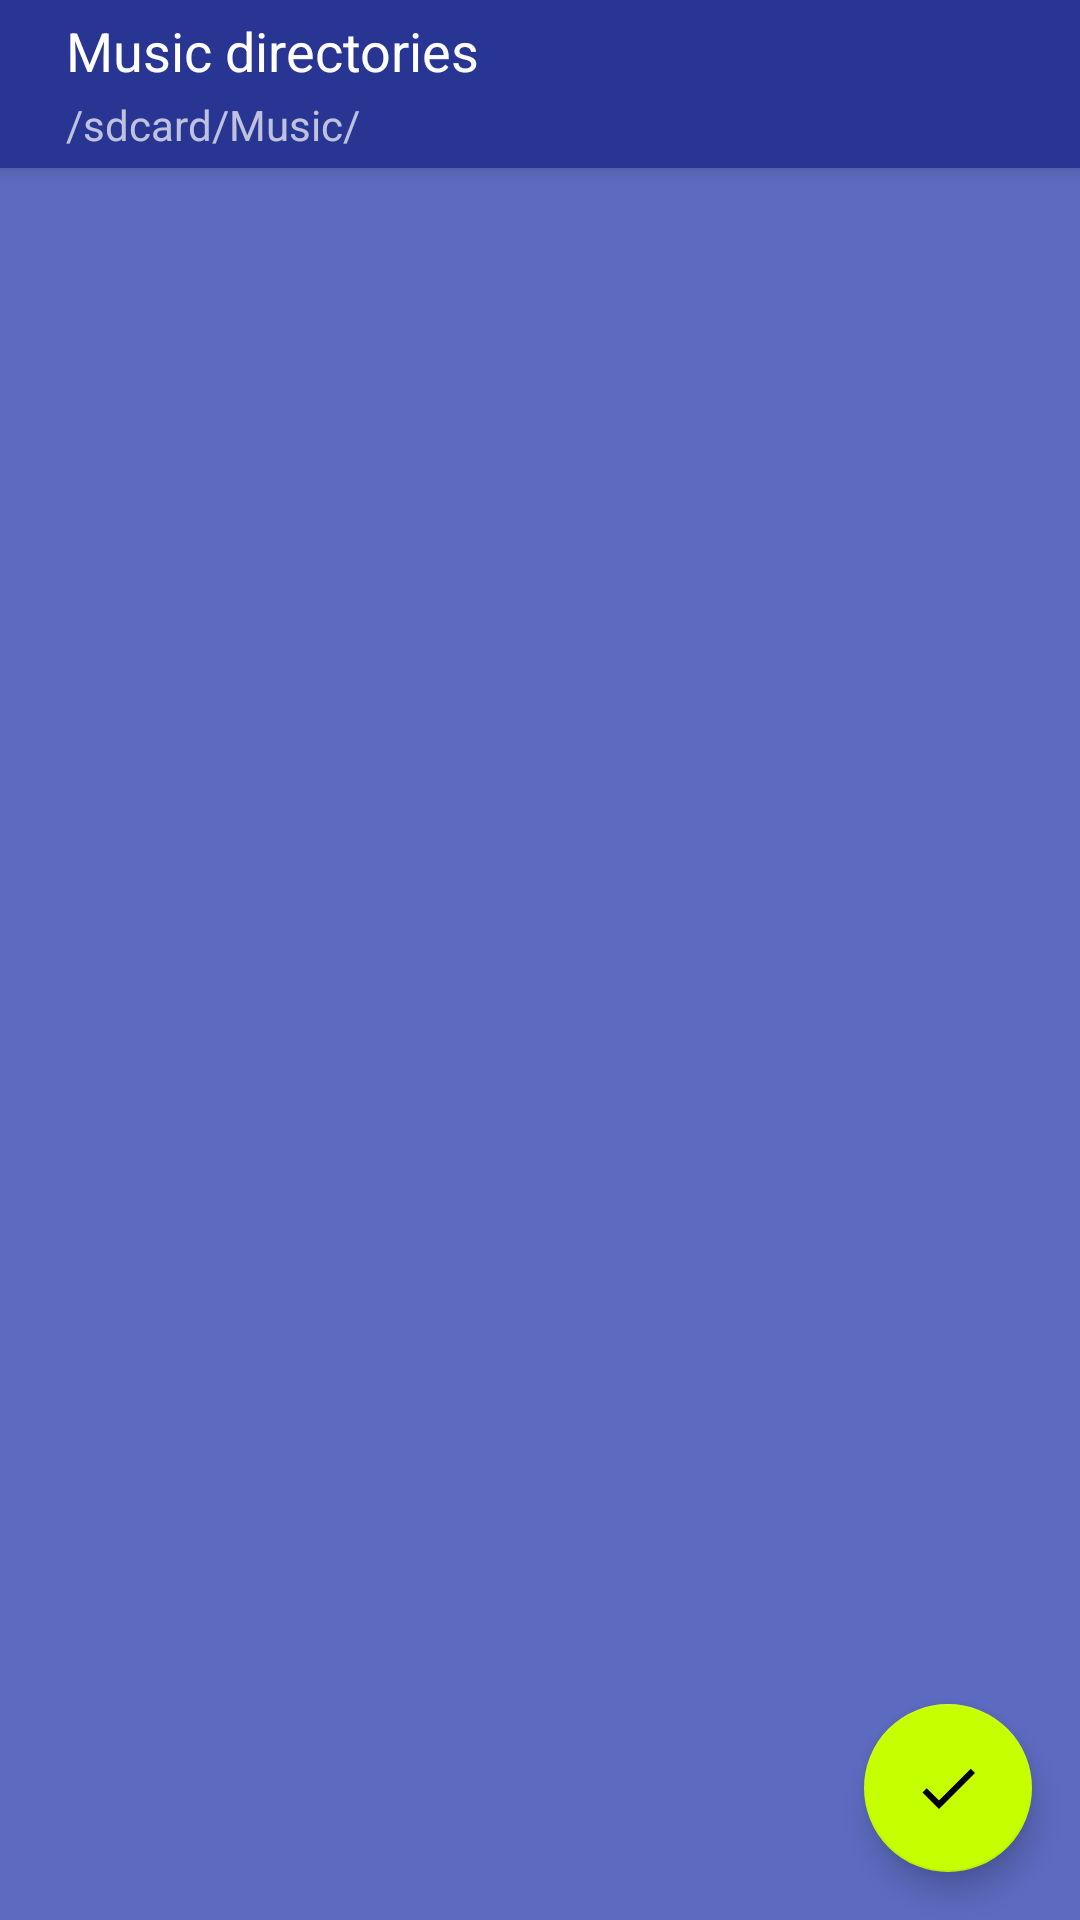

Icons on this 1080px x 1920px Android screen, each with the point to tap as (x,y):
check: (948,1788)
